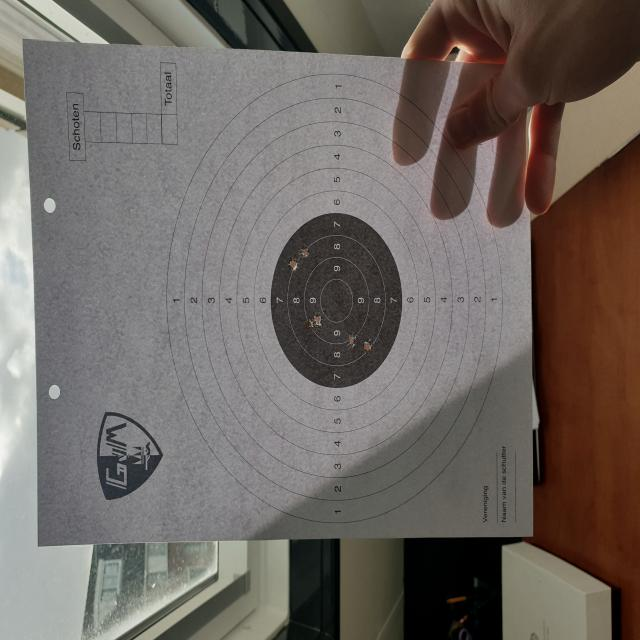8: (298, 245, 310, 258), (288, 258, 298, 272), (362, 338, 372, 352)
9: (346, 332, 357, 348), (304, 317, 314, 333), (313, 312, 323, 327)
Target: (165, 69, 505, 525)
black_contour: (271, 213, 402, 388)
